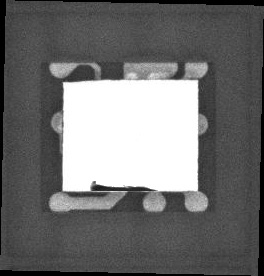DIE_BROKEN: (87, 180, 156, 193)
